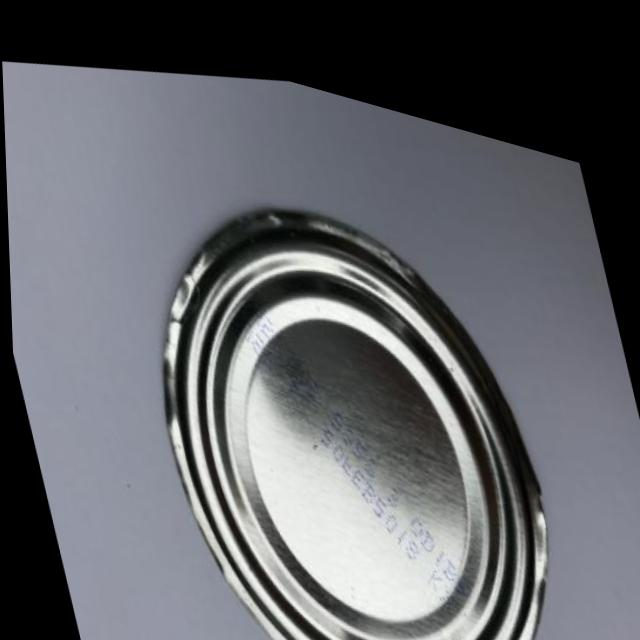metal: (86, 85, 618, 640)
